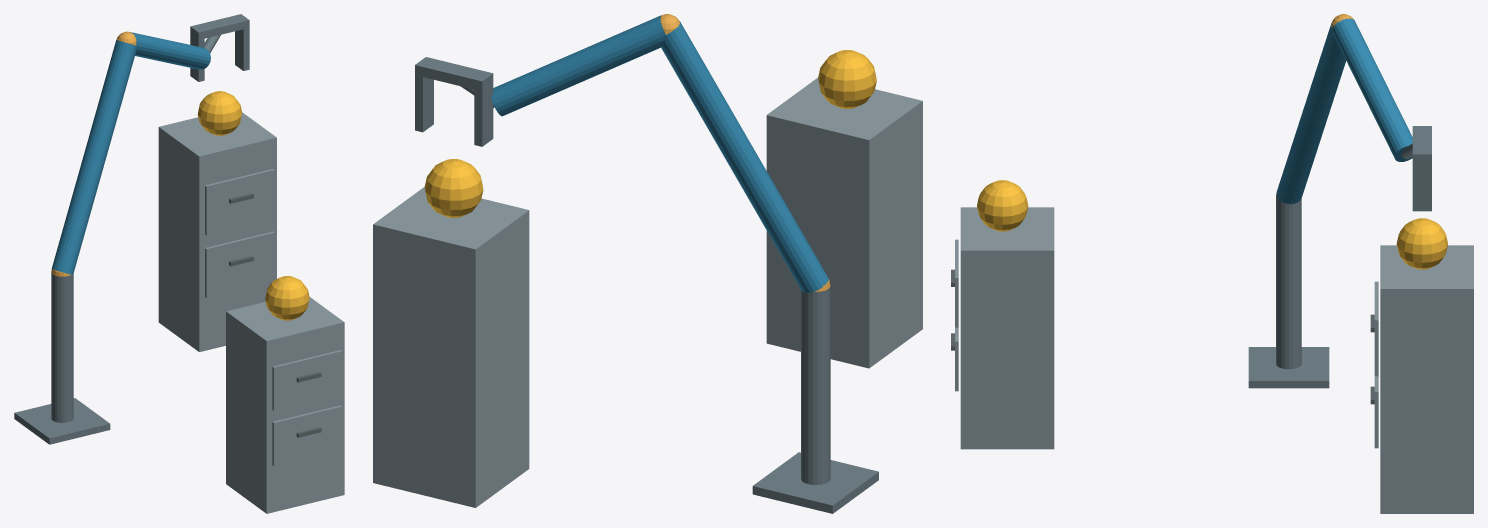
3 renders of one model, left to right at view 1: azimuth 30°, elevation 25°; view 2: azimuth 150°, elevation 25°; view 3: azimuth 270°, elevation 25°, orthographic. The views are drawn at different scales.
Visible parts, largest first — view 1: cabinet_1 body, cabinet_2 body, moving link 1, cabinet_2 drawer front.001, cabinet_2 drawer front, fixed post, cabinet_1 drawer front, cabinet_1 drawer front.001, pedestal, moving link 2, released ball_1, ball ball_2 (+2 smaller); view 2: cabinet_2 body, cabinet_1 body, moving link 1, fixed post, moving link 2, pedestal, ball ball_2, released ball_1, gripper bridge, gripper finger -1, gripper finger 1; view 3: cabinet_2 body, cabinet_1 body, moving link 1, fixed post, moving link 2, pedestal, released ball_1, ball ball_2, gripper finger 1, gripper bridge.
Boxes of the visible parts, bbox=[...] form: cabinet_1 body: bbox=[226, 297, 344, 513]; cabinet_2 body: bbox=[158, 112, 276, 351]; moving link 1: bbox=[51, 40, 136, 274]; cabinet_2 drawer front.001: bbox=[205, 169, 274, 235]; cabinet_2 drawer front: bbox=[205, 231, 274, 297]; fixed post: bbox=[51, 273, 73, 422]; cabinet_1 drawer front: bbox=[272, 405, 342, 466]; cabinet_1 drawer front.001: bbox=[272, 350, 342, 410]; pedestal: bbox=[14, 398, 110, 444]; moving link 2: bbox=[130, 32, 210, 69]; released ball_1: bbox=[265, 276, 309, 320]; ball ball_2: bbox=[197, 91, 242, 135]; cabinet_2 body: bbox=[373, 187, 529, 507]; cabinet_1 body: bbox=[766, 77, 922, 368]; moving link 1: bbox=[661, 21, 828, 293]; fixed post: bbox=[801, 285, 830, 484]; moving link 2: bbox=[491, 15, 665, 116]; pedestal: bbox=[752, 452, 878, 513]; ball ball_2: bbox=[424, 159, 483, 217]; released ball_1: bbox=[818, 50, 876, 108]; gripper bridge: bbox=[415, 57, 493, 91]; gripper finger -1: bbox=[474, 84, 493, 146]; gripper finger 1: bbox=[415, 75, 433, 132]; cabinet_2 body: bbox=[1380, 245, 1473, 513]; cabinet_1 body: bbox=[960, 207, 1054, 449]; moving link 1: bbox=[1276, 23, 1346, 204]; fixed post: bbox=[1276, 196, 1301, 369]; moving link 2: bbox=[1332, 18, 1412, 161]; pedestal: bbox=[1248, 347, 1329, 388]; released ball_1: bbox=[977, 180, 1028, 231]; ball ball_2: bbox=[1396, 218, 1447, 269]; gripper finger 1: bbox=[1412, 163, 1431, 211]; gripper bridge: bbox=[1412, 126, 1431, 163].
Bounding box in the file's own units: 1.17 × 1.39 × 1.62.
